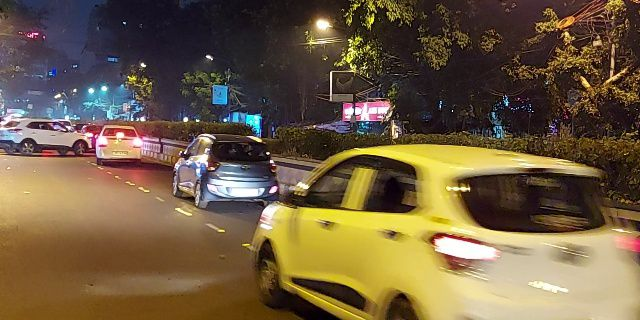Car: (250, 151, 624, 301), (178, 132, 279, 201), (6, 119, 90, 162), (99, 121, 143, 166)
